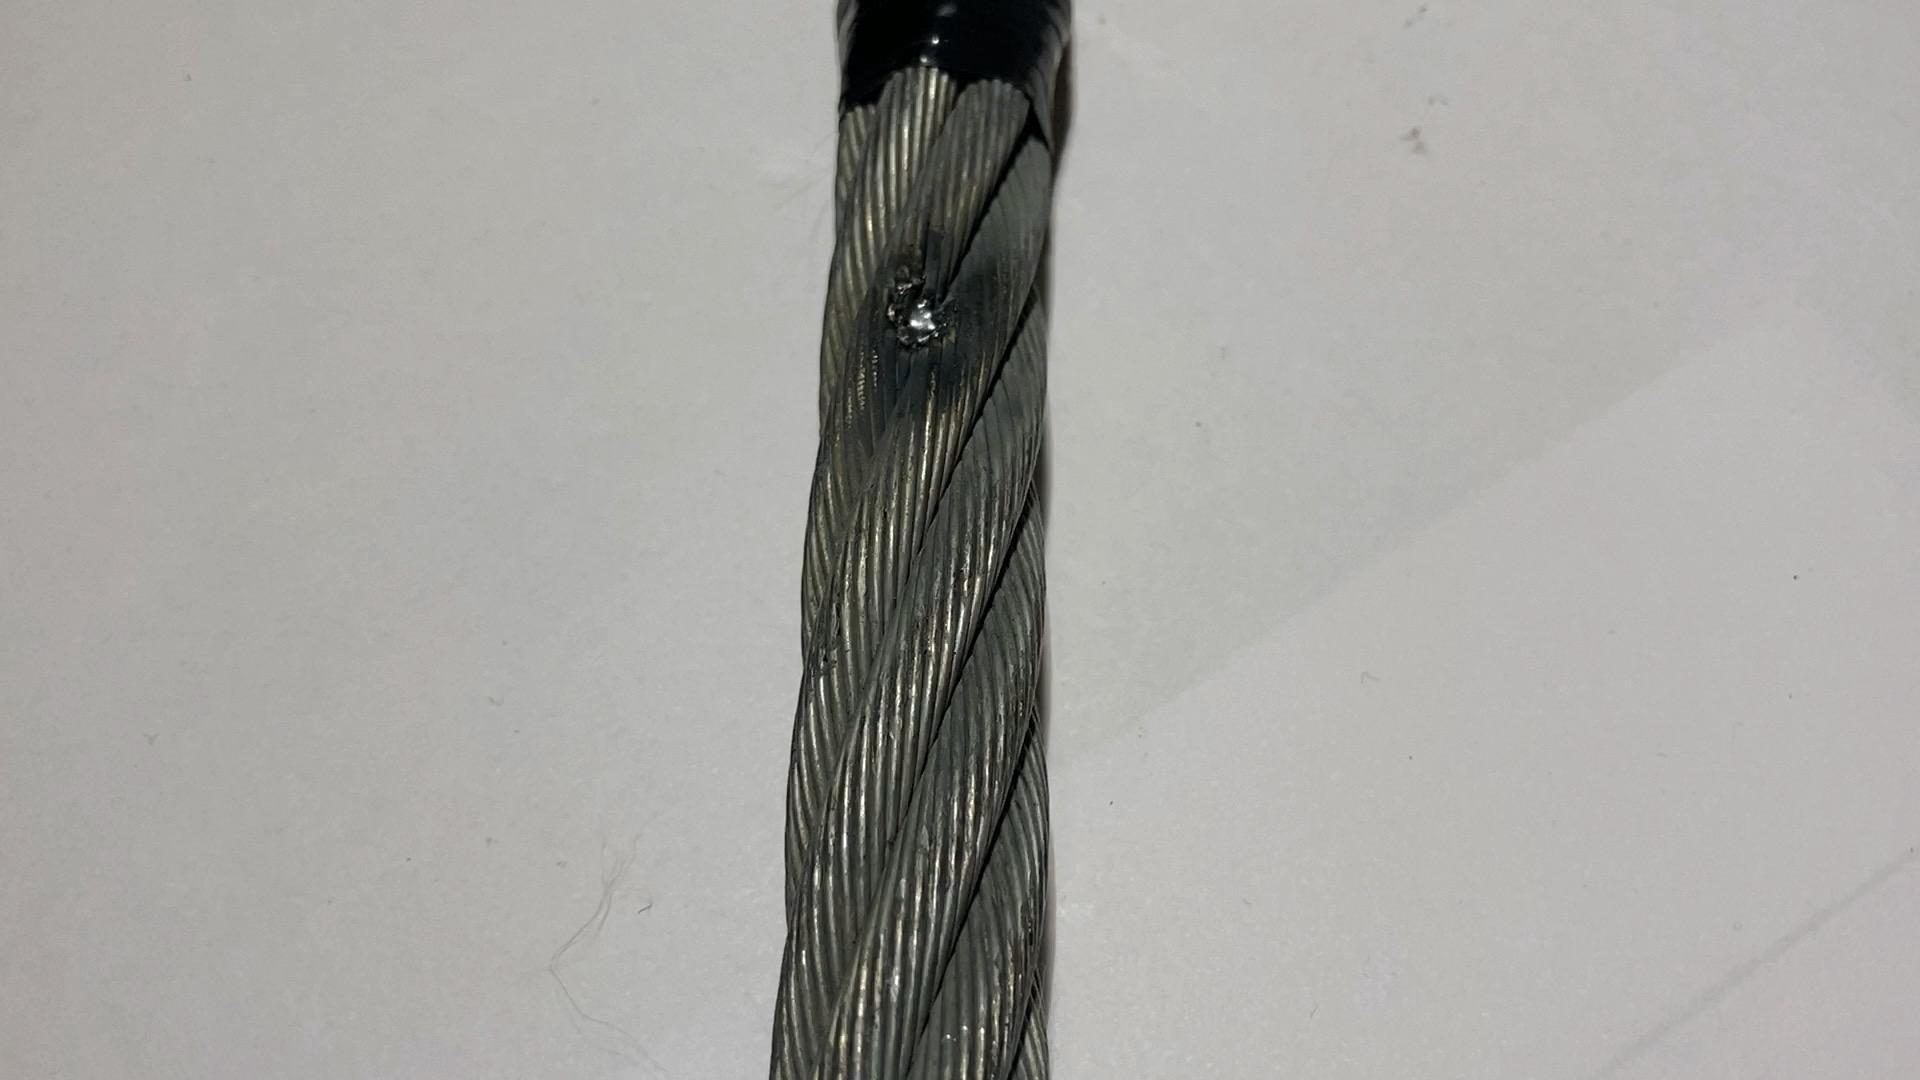thunderbolt: (868, 240, 964, 364)
